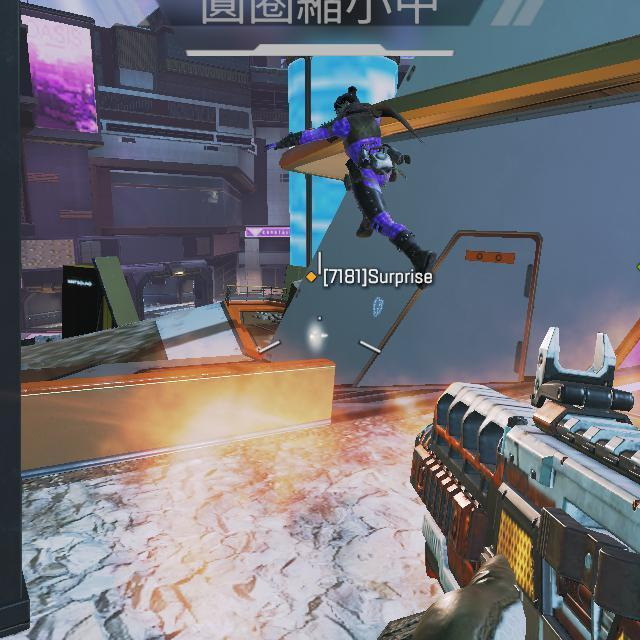avatar: (258, 86, 440, 293)
